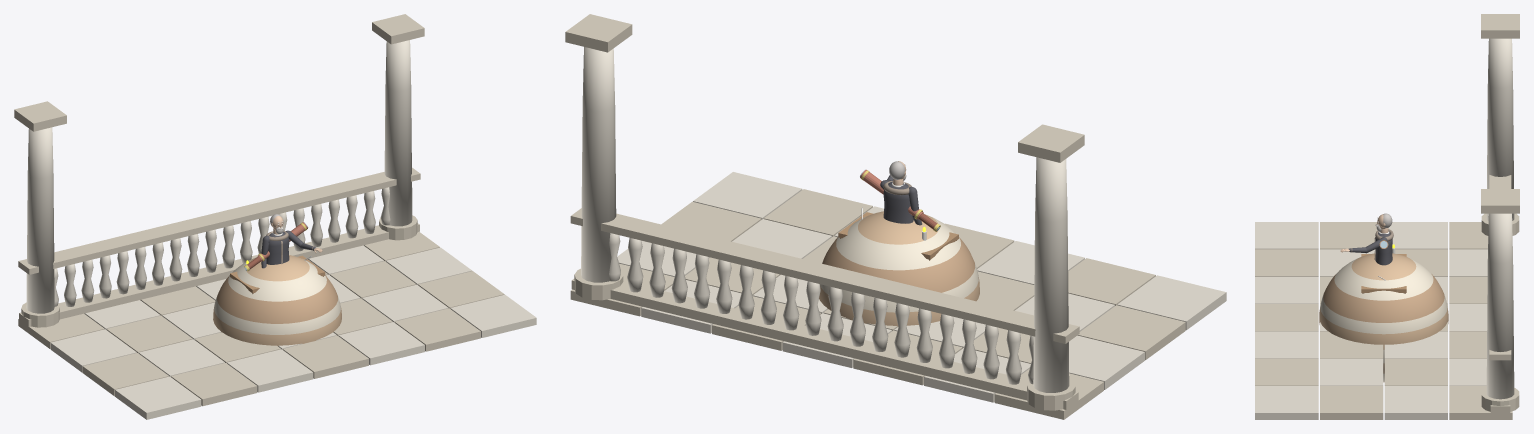
File: galileo.glb
3 renders of one model, left to right at view 1: azimuth 30°, elevation 25°; view 2: azimuth 150°, elevation 25°; view 3: azimuth 270°, elevation 25°, orthographic. The views are drawn at different scales.
Parts seen in each view (by area): view 1: gj_body, gb_rail_top, gb_col-1, gb_col1, gb_rail_base, gb_tile0_0, gb_tile1_0, gb_tile2_0, gb_tile4_0, gb_tile5_0, gb_tile3_0, gb_tile6_0 (+21 smaller); view 2: gb_rail_top, gj_body, gb_col-1, gb_rail_base, gb_col1, gb_tile0_0, gb_tile0_1, gb_tile6_0, gb_tile5_0, gb_tile1_0, gb_tile0_2, gb_tile6_1 (+40 smaller); view 3: gj_body, gb_col1, gb_col-1, gb_tile6_0, gb_tile6_1, gb_tile6_2, gb_tile0_0, gb_tile1_0, gb_tile2_0, gb_tile3_0, gb_tile4_0, gb_tile5_0 (+22 smaller).
Boxes of the visible parts, left/top/right/bottom form: gj_body: left=213, top=255, right=341, bottom=346; gb_rail_top: left=18, top=167, right=420, bottom=274; gb_col-1: left=26, top=127, right=54, bottom=313; gb_col1: left=384, top=40, right=412, bottom=226; gb_rail_base: left=19, top=223, right=419, bottom=326; gb_tile0_0: left=115, top=376, right=201, bottom=419; gb_tile1_0: left=171, top=363, right=257, bottom=406; gb_tile2_0: left=227, top=349, right=313, bottom=392; gb_tile4_0: left=338, top=322, right=424, bottom=365; gb_tile5_0: left=394, top=308, right=480, bottom=351; gb_tile3_0: left=282, top=335, right=368, bottom=378; gb_tile6_0: left=450, top=294, right=536, bottom=337; gb_rail_top: left=570, top=208, right=1079, bottom=343; gj_body: left=819, top=211, right=979, bottom=326; gb_col-1: left=1033, top=157, right=1069, bottom=392; gb_rail_base: left=571, top=279, right=1078, bottom=409; gb_col1: left=581, top=47, right=616, bottom=282; gb_tile0_0: left=1117, top=275, right=1226, bottom=330; gb_tile0_1: left=1077, top=305, right=1185, bottom=360; gb_tile6_0: left=693, top=172, right=802, bottom=219; gb_tile5_0: left=763, top=189, right=872, bottom=236; gb_tile1_0: left=1068, top=258, right=1155, bottom=305; gb_tile0_2: left=1069, top=335, right=1144, bottom=389; gb_tile6_1: left=661, top=201, right=761, bottom=241; gj_body: left=1319, top=253, right=1448, bottom=382; gb_col1: left=1486, top=213, right=1514, bottom=399; gb_col-1: left=1486, top=38, right=1514, bottom=220; gb_tile6_0: left=1255, top=386, right=1318, bottom=419; gb_tile6_1: left=1320, top=386, right=1383, bottom=419; gb_tile6_2: left=1384, top=386, right=1447, bottom=419; gb_tile0_0: left=1255, top=222, right=1318, bottom=249; gb_tile1_0: left=1255, top=249, right=1318, bottom=276; gb_tile2_0: left=1255, top=276, right=1318, bottom=303; gb_tile3_0: left=1255, top=304, right=1318, bottom=331; gb_tile4_0: left=1255, top=331, right=1318, bottom=358; gb_tile5_0: left=1255, top=358, right=1318, bottom=385.
Size of the model in its own units: 7 by 4.54 by 4.09.
